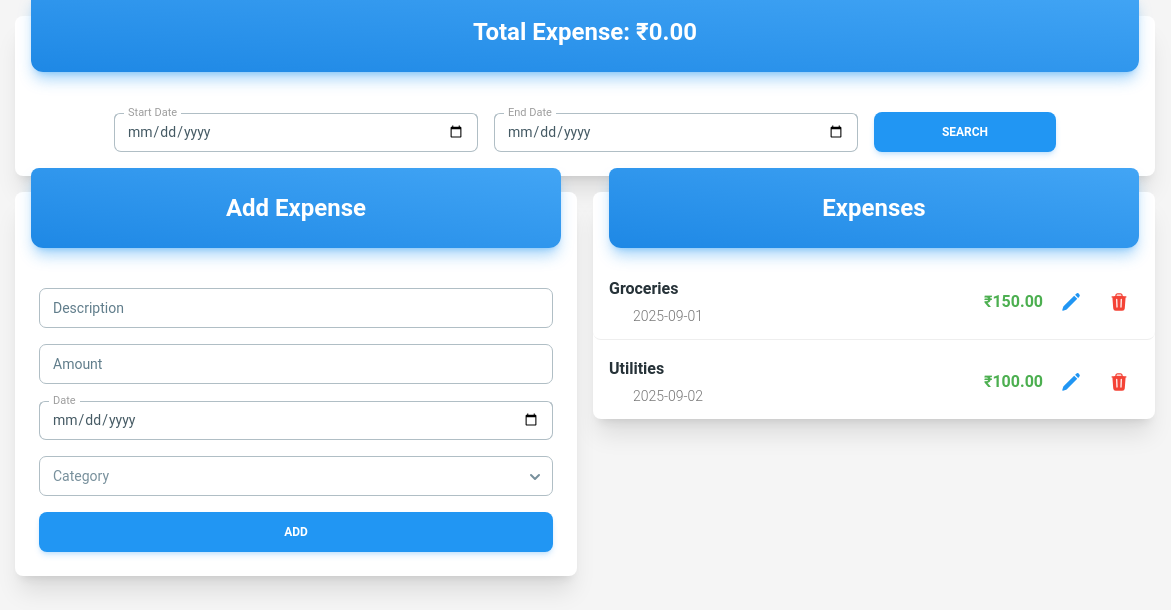
Test: ExpensesPage › filters expenses by date
The width and height of the screenshot is (1171, 610).
Check: the heading "Groceries" is shown, box [609,279,678,298]
Type "2025-09-02" into the date field with test id "start-date-input" at (296, 132), box [114,112,478,152]
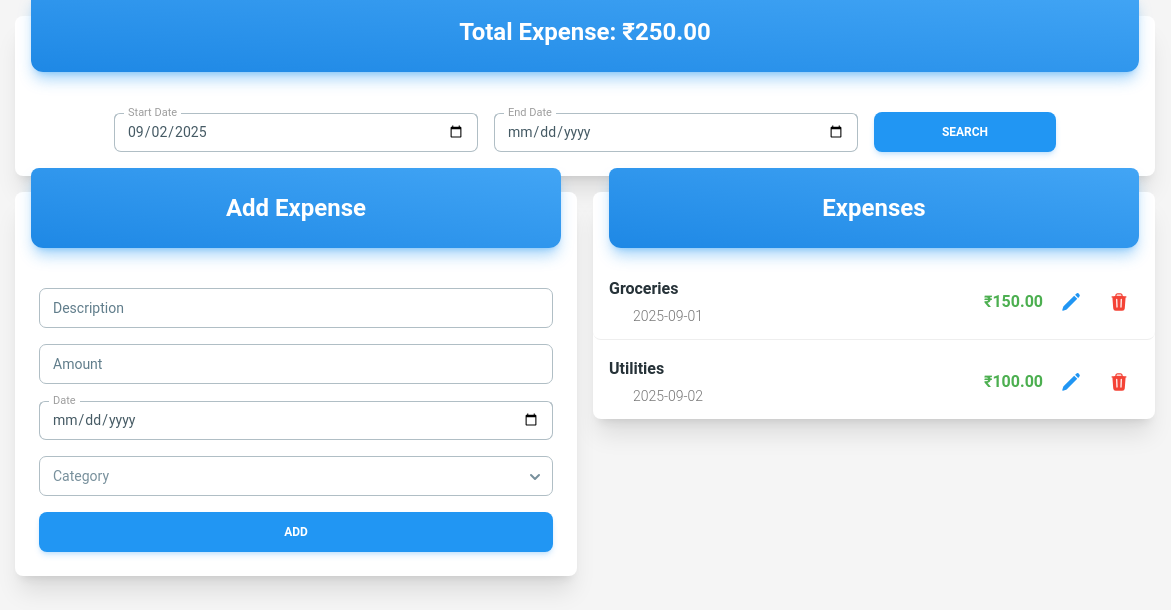
Type "2025-09-02" into the date field with test id "end-date-input" at (676, 132), box [494,112,858,152]
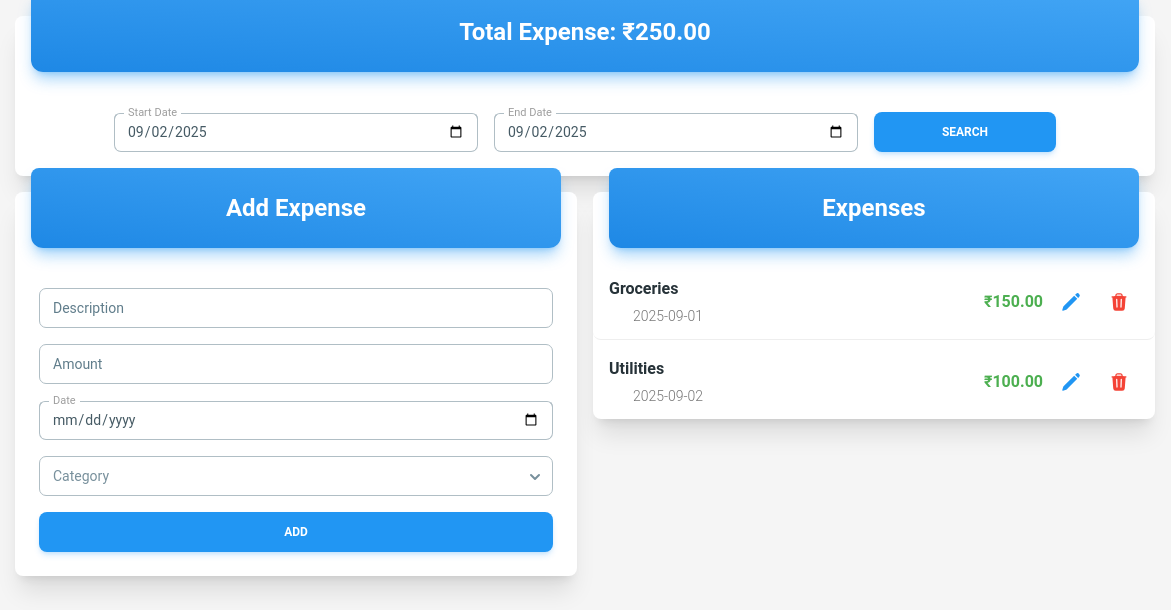
Click the button "Search" at (965, 132), box [874,112,1056,152]
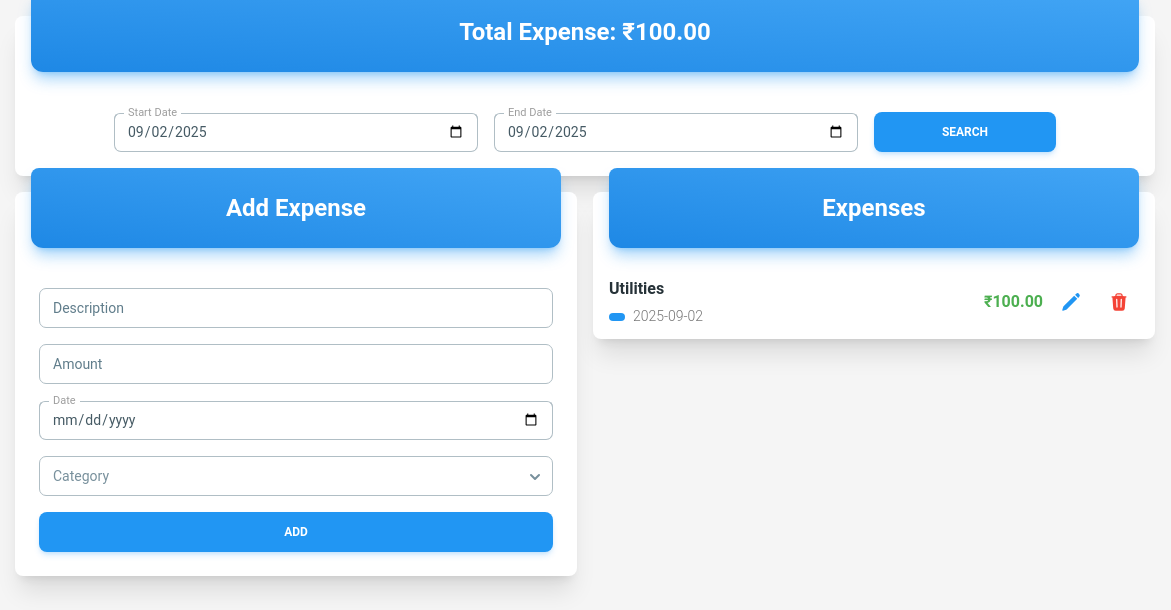
Check: the heading "Utilities" is shown, box [609,279,664,298]
Check: the button "Groceries" is gone
